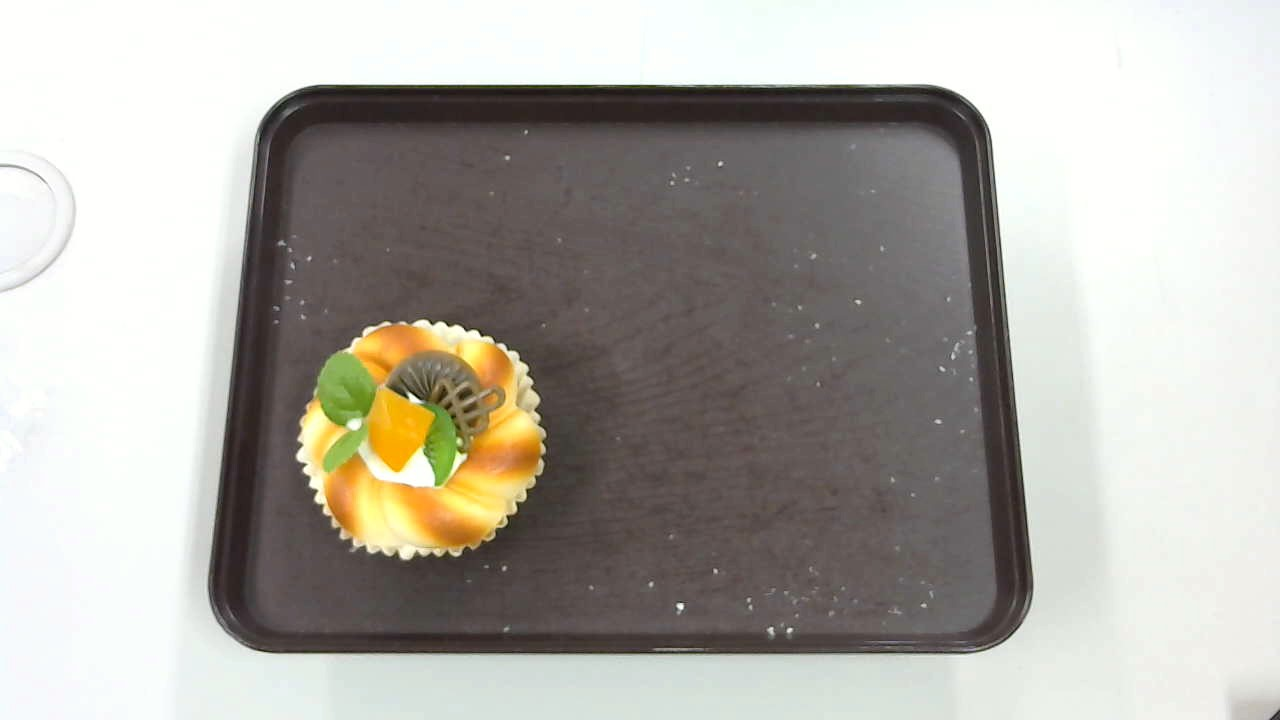fruit tart: (295, 319, 546, 560)
